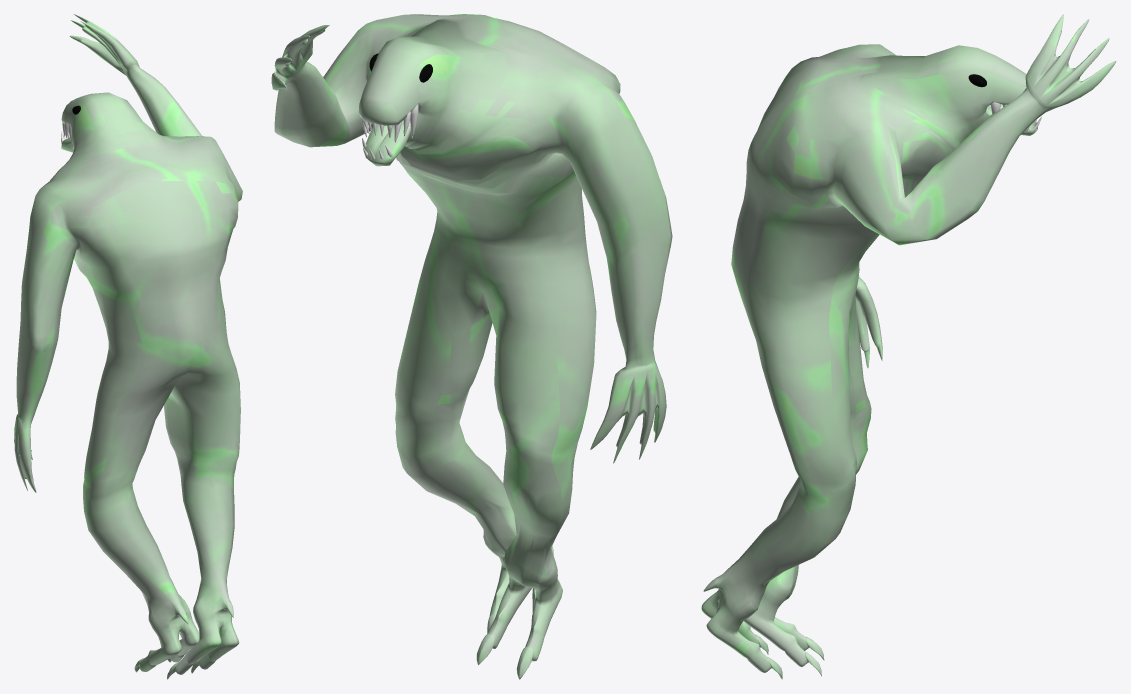
Rendered from Berserkercorrer.0038.obj.
3 views of the same model, side by side, from view 1: azimuth 30°, elevation 25°; view 2: azimuth 150°, elevation 25°; view 3: azimuth 270°, elevation 25° (orthographic). The views are drawn at different scales.
Visible parts, largest first — view 1: polySurface27; view 2: polySurface27; view 3: polySurface27.
Boxes of the visible parts, bbox=[...] form: polySurface27: bbox=[14, 14, 242, 679]; polySurface27: bbox=[271, 14, 672, 679]; polySurface27: bbox=[701, 14, 1116, 679].
Bounding box in the file's own units: 11.46 × 24.87 × 13.91.
1 material, 1 textured.
